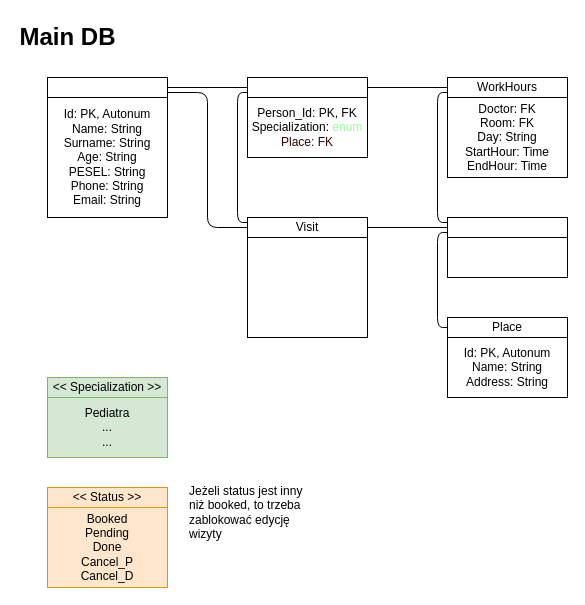
This 585x605 diagram has some shape labels left out. The centre of each missing label's shape, as x and y in pixels:
"Doctor" goes at point 307,87.
"Id: Autonum Person: FK Doctor: FK Room: FK Date: Date Status: enum" goes at point 307,287.
"Name: PK, String Place: PK, FK" goes at point 507,257.
"Person" goes at point 107,87.
"Room" goes at point 507,227.
